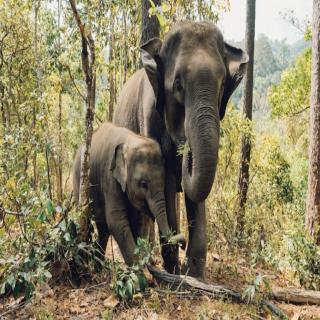Elephant: (115, 17, 250, 299), (69, 120, 189, 277)
